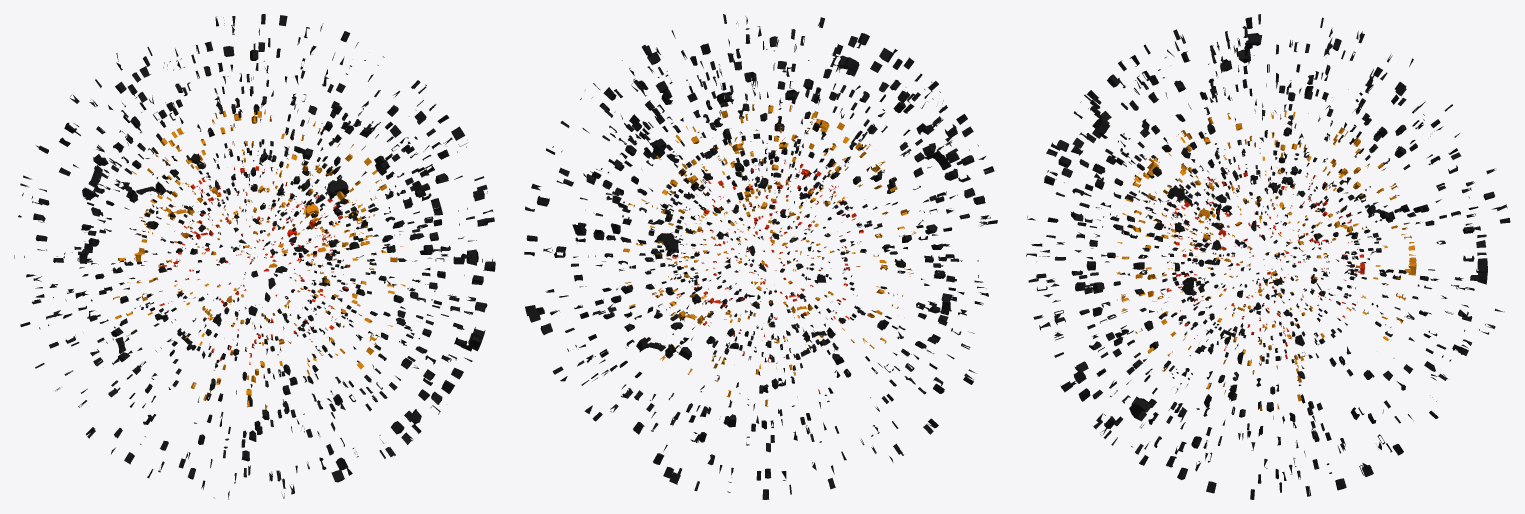
The model's file is vfx_explosion_724a95.fbx.
3 views of the same model, side by side, from view 1: azimuth 30°, elevation 25°; view 2: azimuth 150°, elevation 25°; view 3: azimuth 270°, elevation 25° (orthographic).
Parts seen in each view (by area): view 1: vfx_explosion_724a95; view 2: vfx_explosion_724a95; view 3: vfx_explosion_724a95.
Boxes of the visible parts, x1,y1,x2,y2 form: vfx_explosion_724a95: (14,14,495,499); vfx_explosion_724a95: (524,14,997,499); vfx_explosion_724a95: (1026,14,1510,499).
Bounding box in the file's own units: 19.92 × 19.84 × 19.8.
